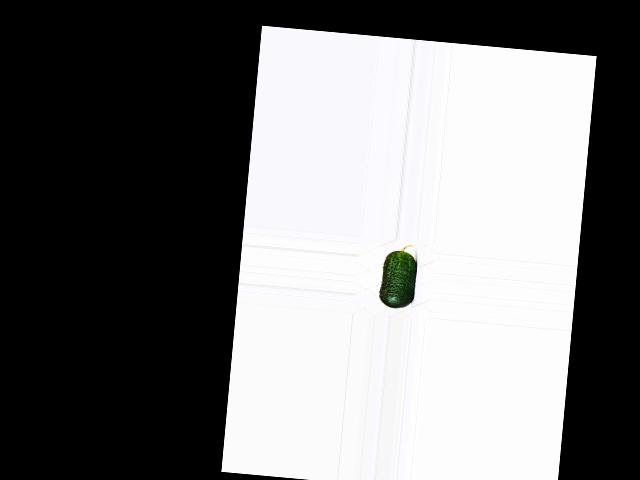cucumber: (378, 242, 418, 309)
